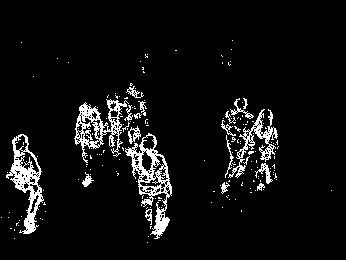person: (130, 133, 173, 240), (8, 131, 48, 235), (222, 96, 256, 204), (248, 106, 280, 194), (75, 101, 104, 188), (124, 81, 150, 157), (104, 93, 131, 161)
